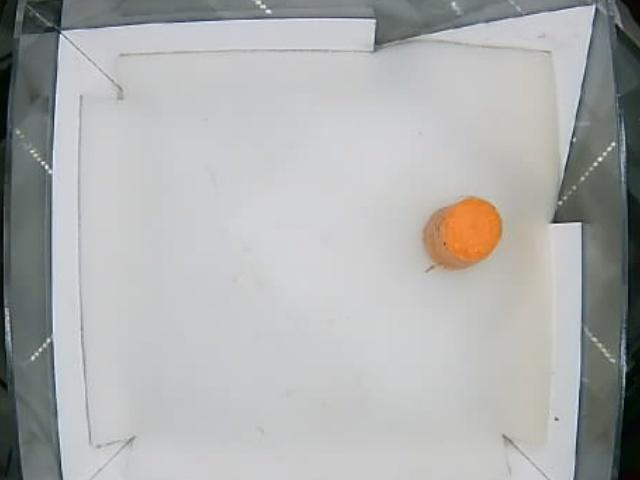Carrot: (424, 196, 503, 270)
